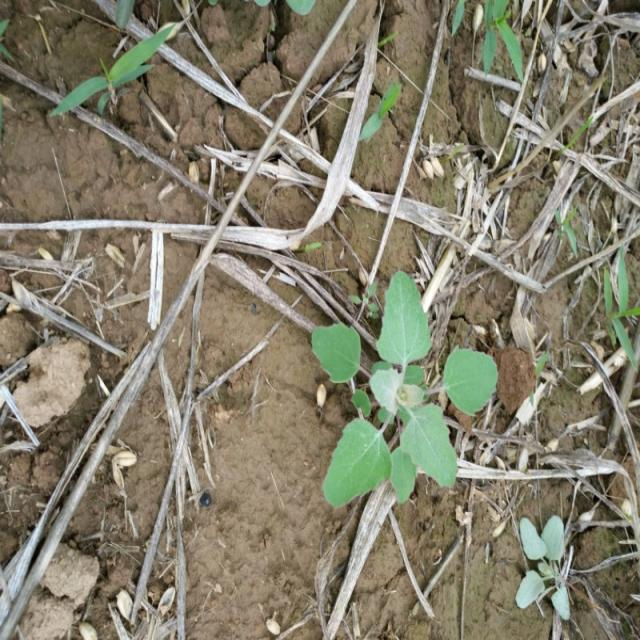goosefoots: (296, 273, 502, 505)
